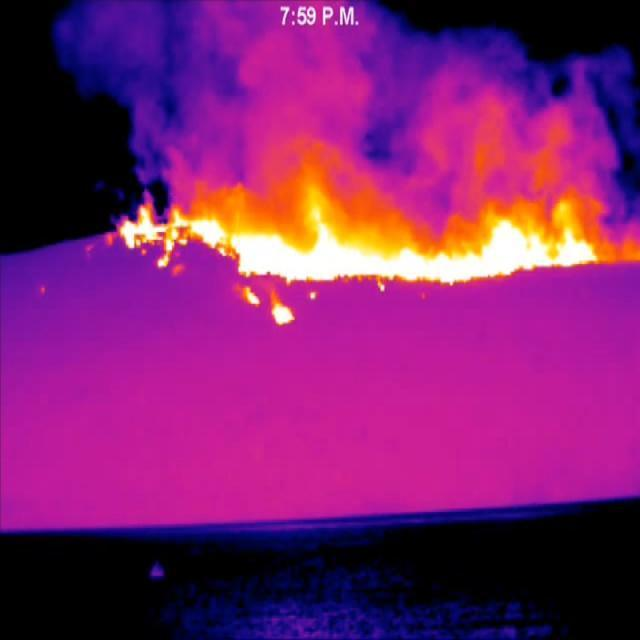fire: (119, 186, 600, 330)
